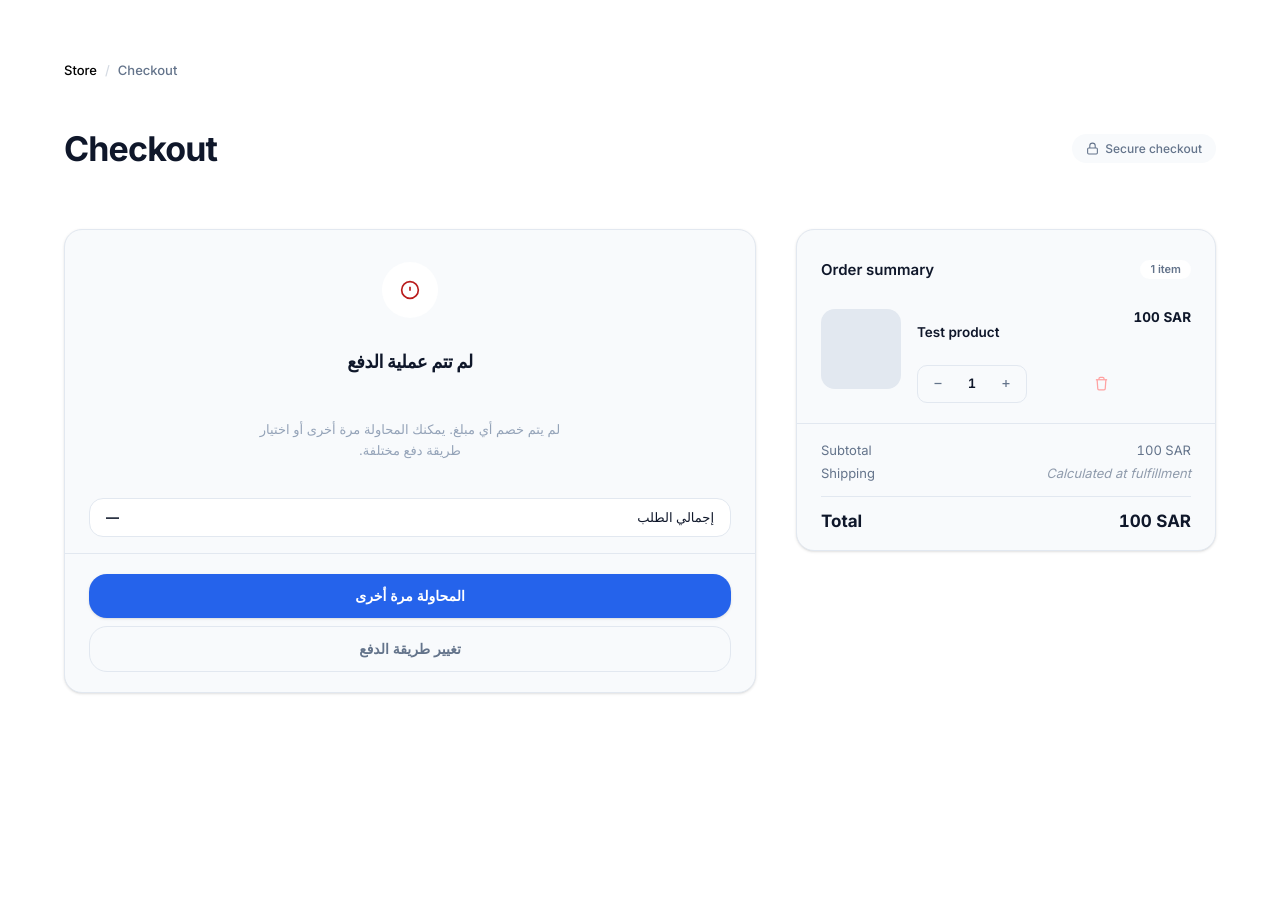
retry after a failure › says what is missing, and "change payment method" is what returns to the form
The width and height of the screenshot is (1280, 900).
Check: the text "لم تتم عملية الدفع" is shown, box [347,348,473,376]
Click the button "المحاولة مرة أخرى".
click(410, 596)  # box [89,574,731,618]
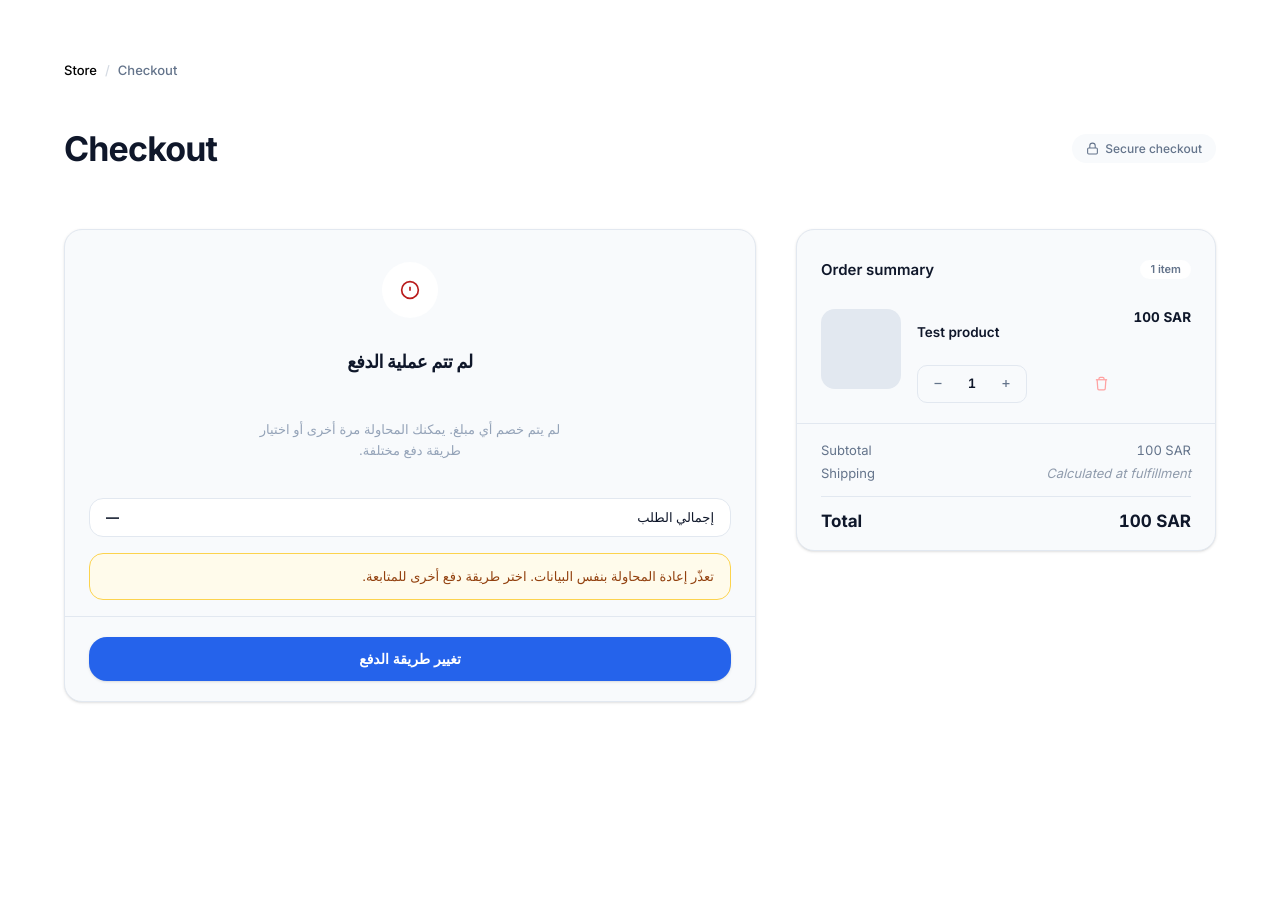
Check: the field with placeholder "Jane Doe" is not shown
Check: the message "تعذّر إعادة المحاولة بنفس البيانات. اختر طريقة دفع أخرى للمتابعة." is shown, box [89,553,731,600]
Check: the message shows "اختر طريقة دفع أخرى", box [362,568,714,584]
The way on is the other button, which is what it has always meant.
Click the button "تغيير طريقة الدفع".
click(410, 659)  # box [89,637,731,681]
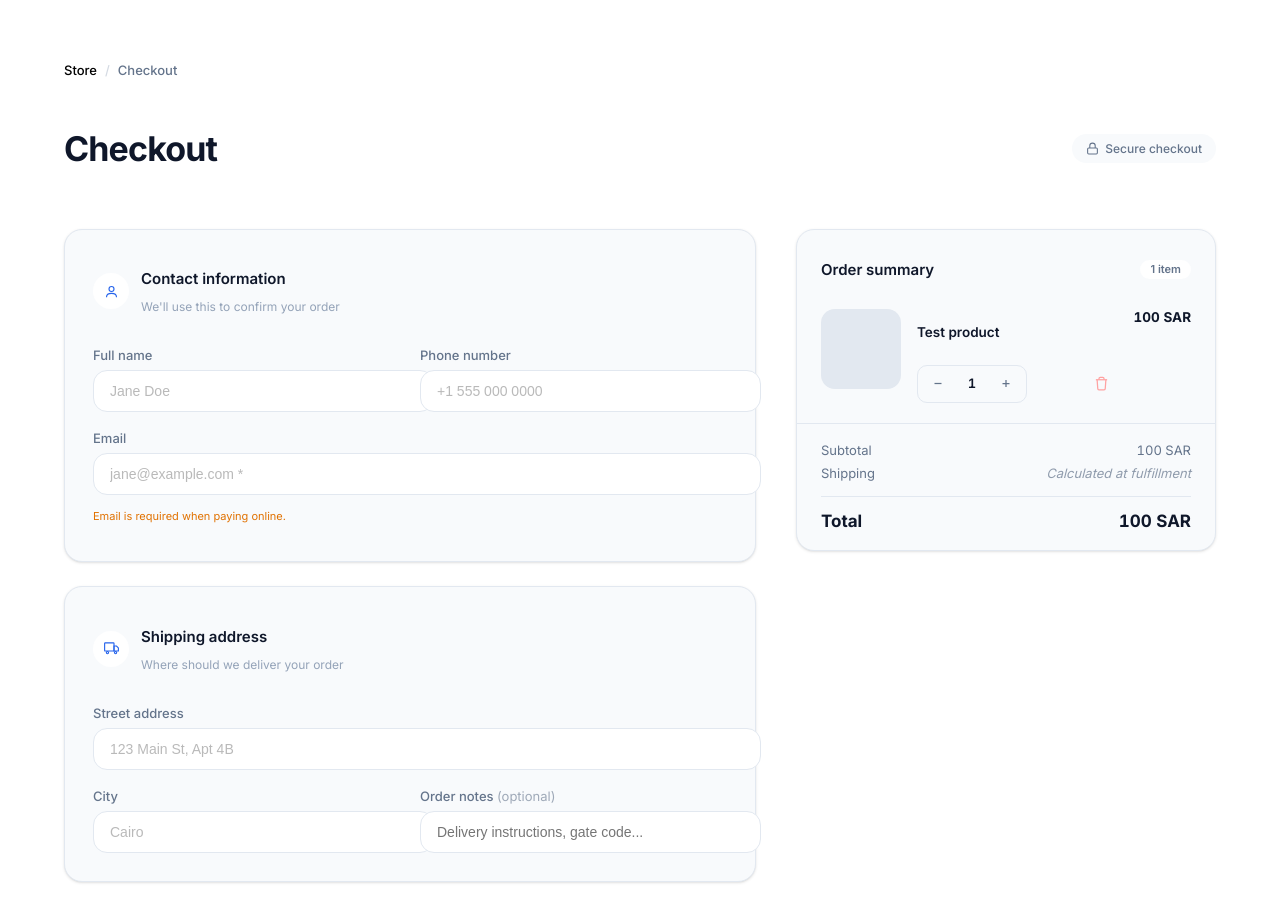
Check: the field with placeholder "Jane Doe" is shown, box [93,370,434,412]
